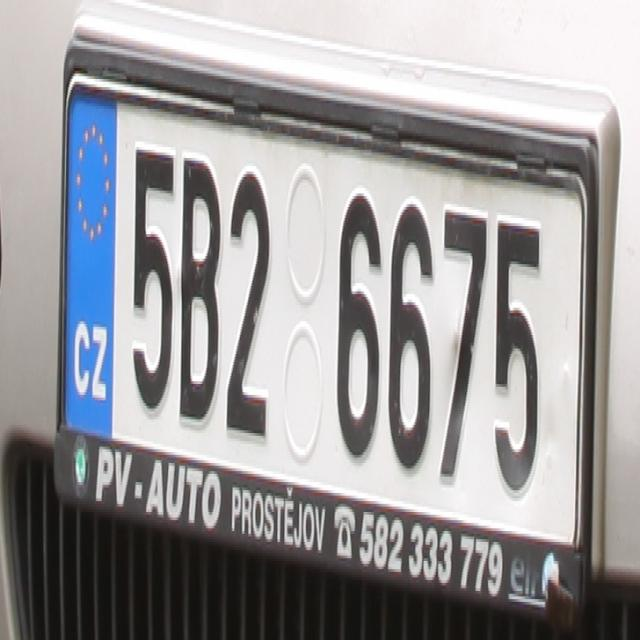2: (225, 169, 271, 438)
5: (496, 210, 540, 493), (130, 139, 173, 411)
6: (385, 194, 434, 472), (333, 191, 379, 463)
7: (439, 196, 488, 488)
B: (178, 144, 220, 425)
